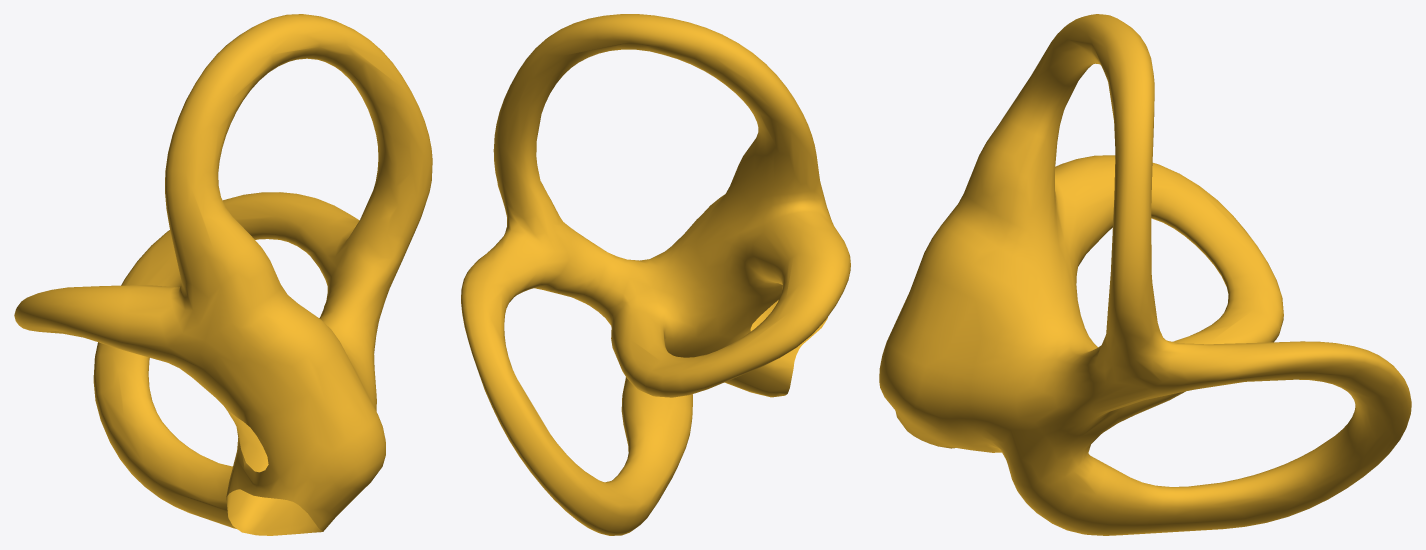
Rendered from nervoso-vestibule-r.glb.
3 renders of one model, left to right at view 1: azimuth 30°, elevation 25°; view 2: azimuth 150°, elevation 25°; view 3: azimuth 270°, elevation 25°, orthographic. The views are drawn at different scales.
Visible parts, largest first — view 1: Vestibule.r; view 2: Vestibule.r; view 3: Vestibule.r.
Part boxes in pixels (<box>): Vestibule.r: <box>14,14,432,535</box>; Vestibule.r: <box>461,14,850,535</box>; Vestibule.r: <box>879,14,1411,535</box>.
Size of the model in its own units: 0.0102 by 0.0129 by 0.012.
